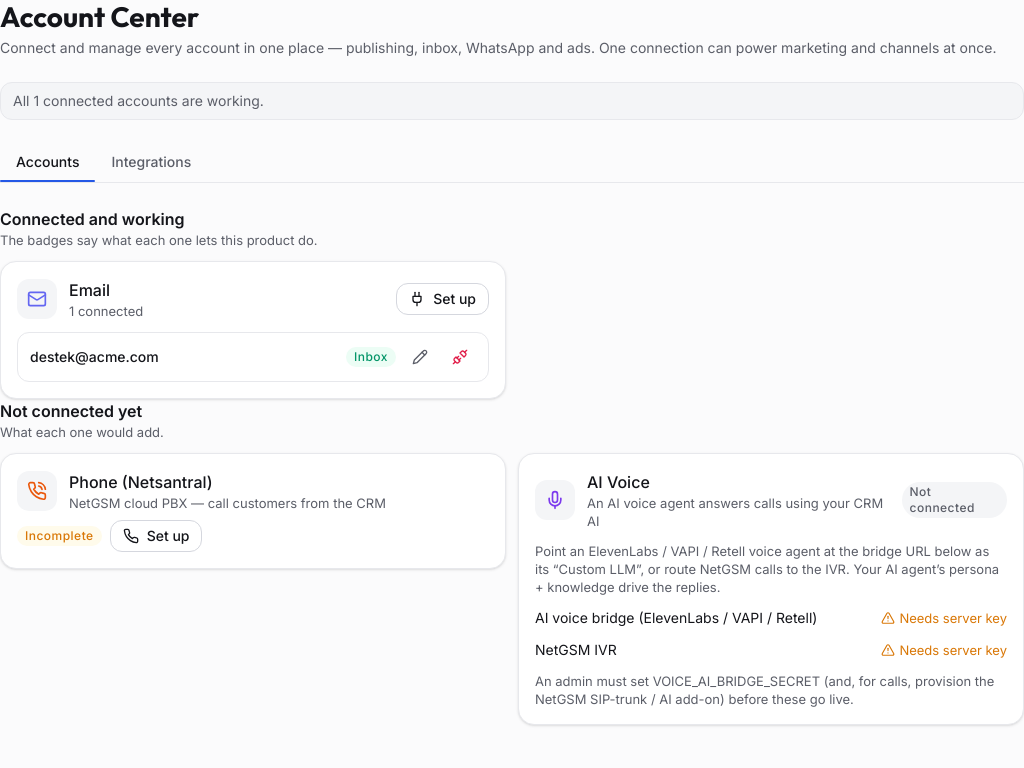
Test case: AccountCenterPage — the email mailbox › offers Edit rather than Disconnect-and-start-again
Click the button named "edit mailbox" at (420, 357), box [404,341,436,373]
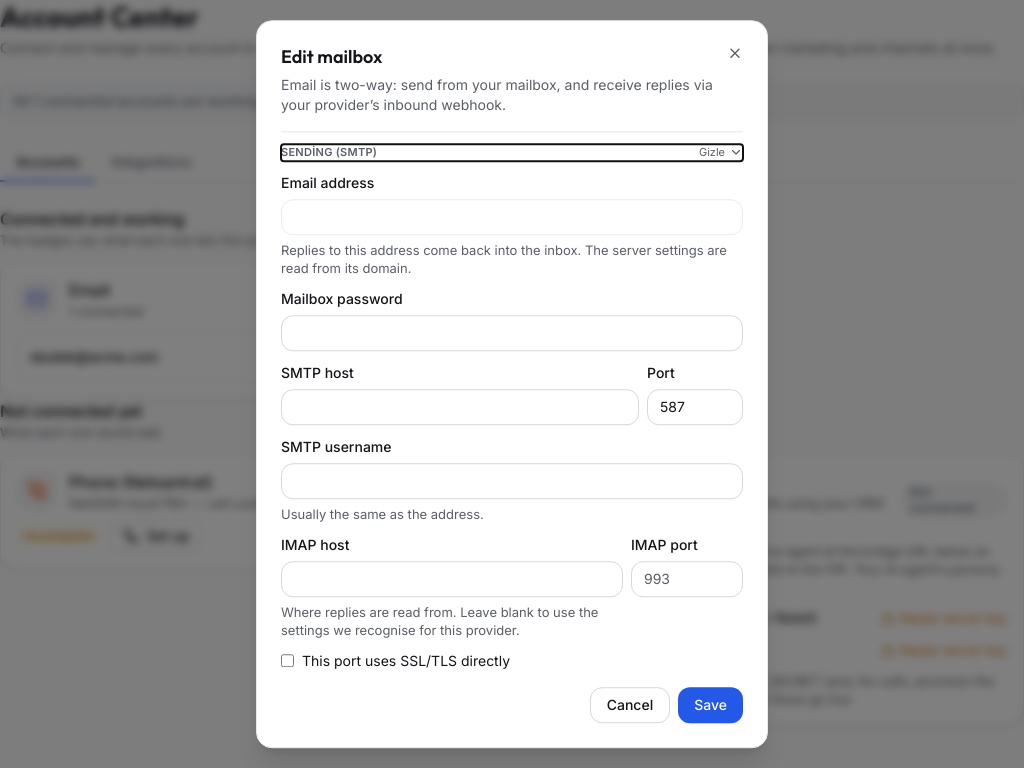
Check: the heading "Edit mailbox" is shown, box [281,45,382,68]
